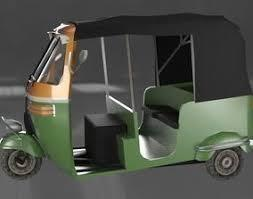keke: (1, 11, 253, 186)
